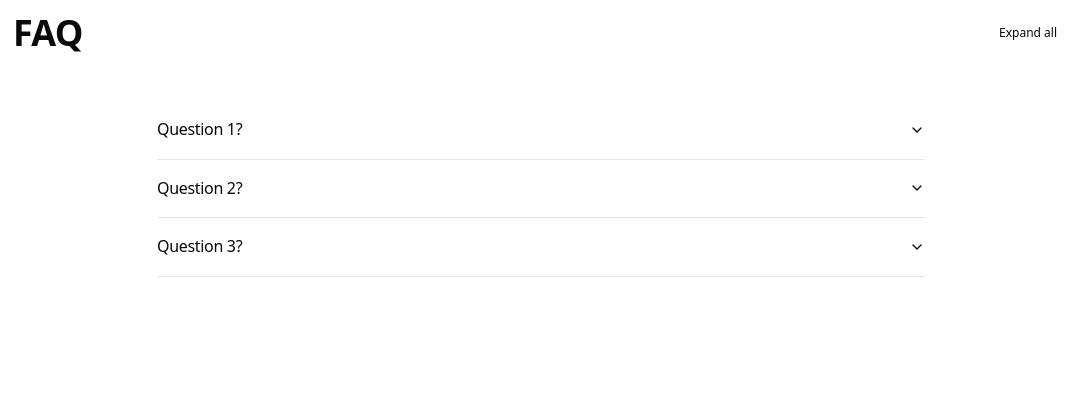
Test case: FAQ › clicking Collapse all closes every question
What coordinates should you click on to do the following:
click the button "Expand all"
I would click on:
 (1028, 33)
Its box is x1=987 y1=17 x2=1069 y2=49.
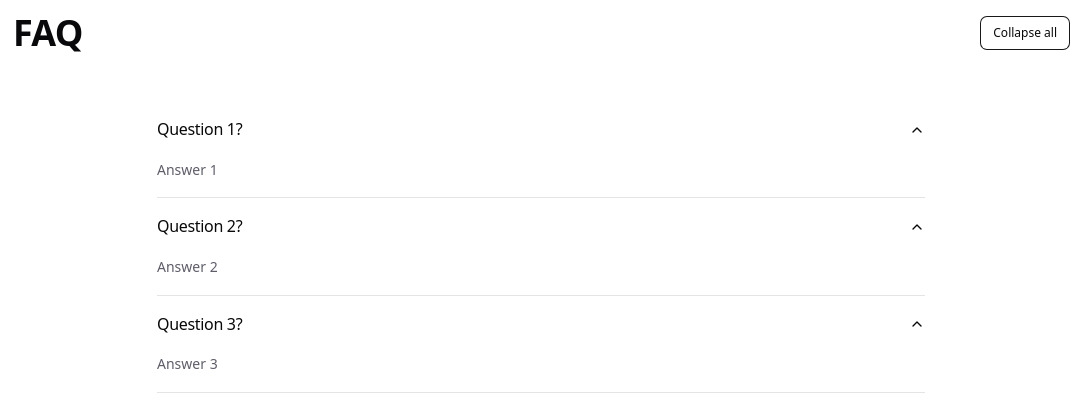
What coordinates should you click on to do the following:
click the button "Collapse all"
I would click on:
 (1025, 33)
Its box is x1=981 y1=17 x2=1069 y2=49.
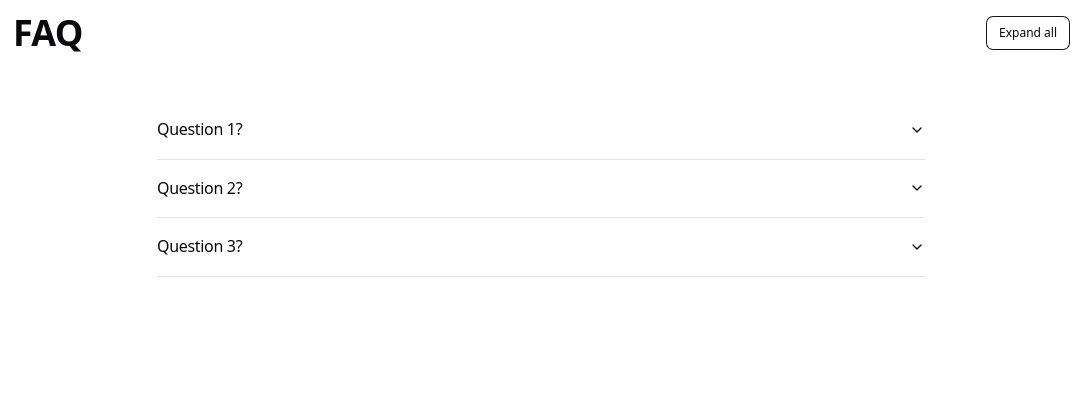
Result: the text "Answer 1" is gone
Result: the text "Answer 2" is gone
